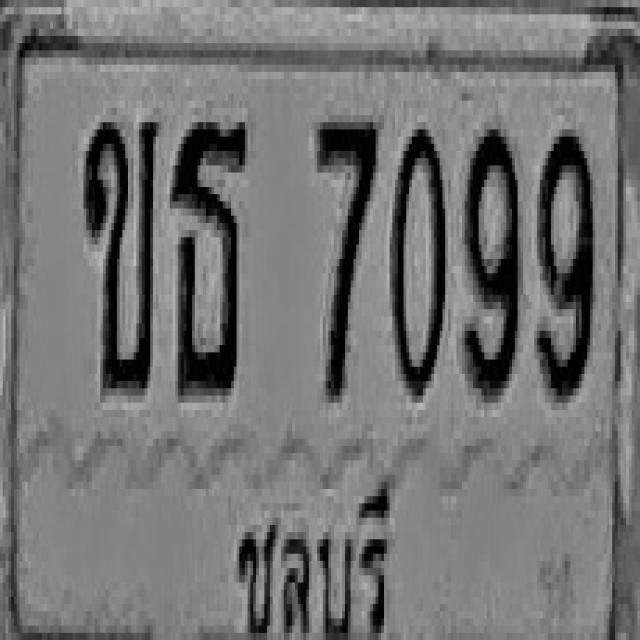0: (390, 122, 445, 396)
11KhorKhai: (84, 115, 158, 396)
33ThorThong: (170, 115, 248, 396)
7: (316, 115, 377, 403)
9: (536, 126, 594, 399), (463, 122, 519, 396)
Chonburi: (233, 472, 399, 640)
